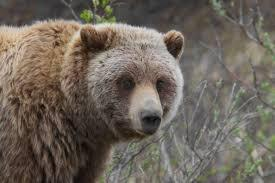bear: (0, 20, 184, 183)
